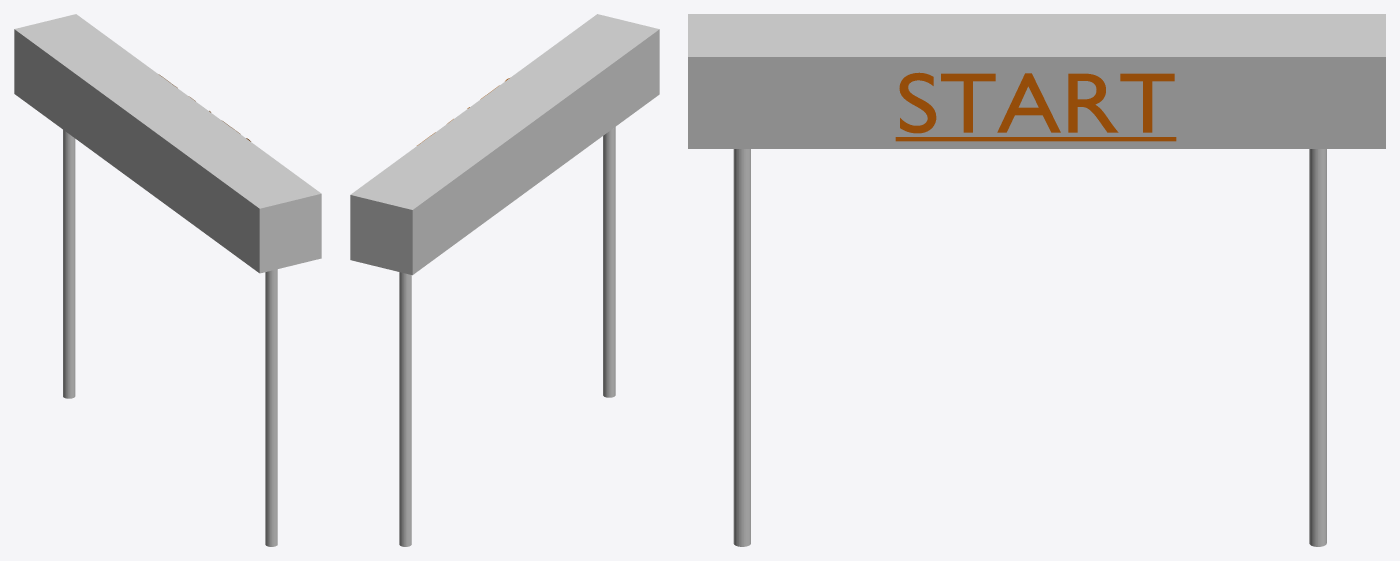
File: STart SIgn.fbx
3 views of the same model, side by side, from view 1: azimuth 30°, elevation 25°; view 2: azimuth 150°, elevation 25°; view 3: azimuth 270°, elevation 25° (orthographic). The views are drawn at different scales.
Visible parts, largest first — view 1: Cube, Cylinder, Cylinder.001; view 2: Cube, Cylinder.001, Cylinder; view 3: Cube, Text, Cylinder, Cylinder.001.
Boxes of the visible parts, x1,y1,x2,y2 form: Cube: [14, 14, 321, 273]; Cylinder: [265, 269, 277, 546]; Cylinder.001: [63, 130, 75, 398]; Cube: [350, 14, 659, 275]; Cylinder.001: [399, 272, 411, 546]; Cylinder: [603, 127, 615, 397]; Cube: [688, 14, 1385, 148]; Text: [895, 72, 1176, 141]; Cylinder: [733, 149, 750, 546]; Cylinder.001: [1309, 149, 1326, 546].
Size of the model in its own units: 227 by 1102 by 1373.
